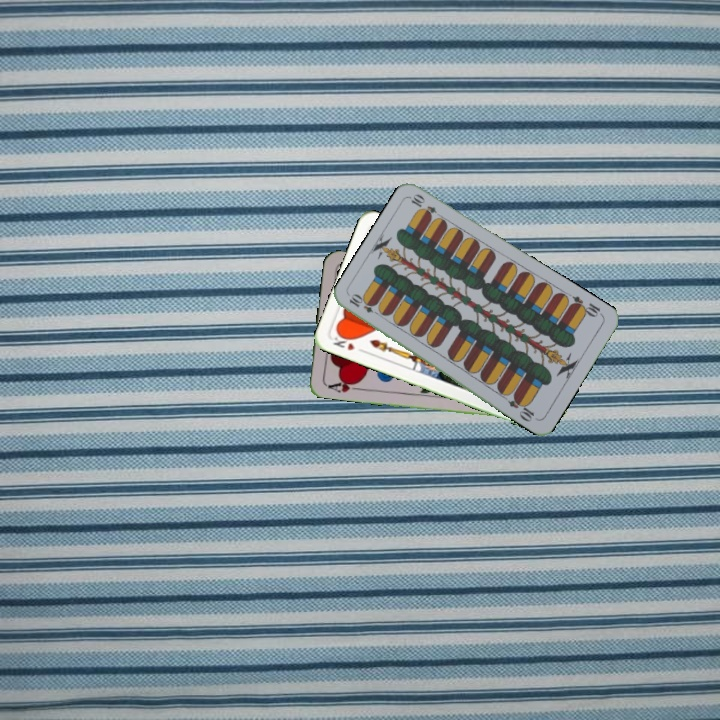E10: (566, 292, 605, 320), (345, 291, 383, 319)
HA: (322, 375, 363, 395)
HK: (328, 329, 357, 353)
